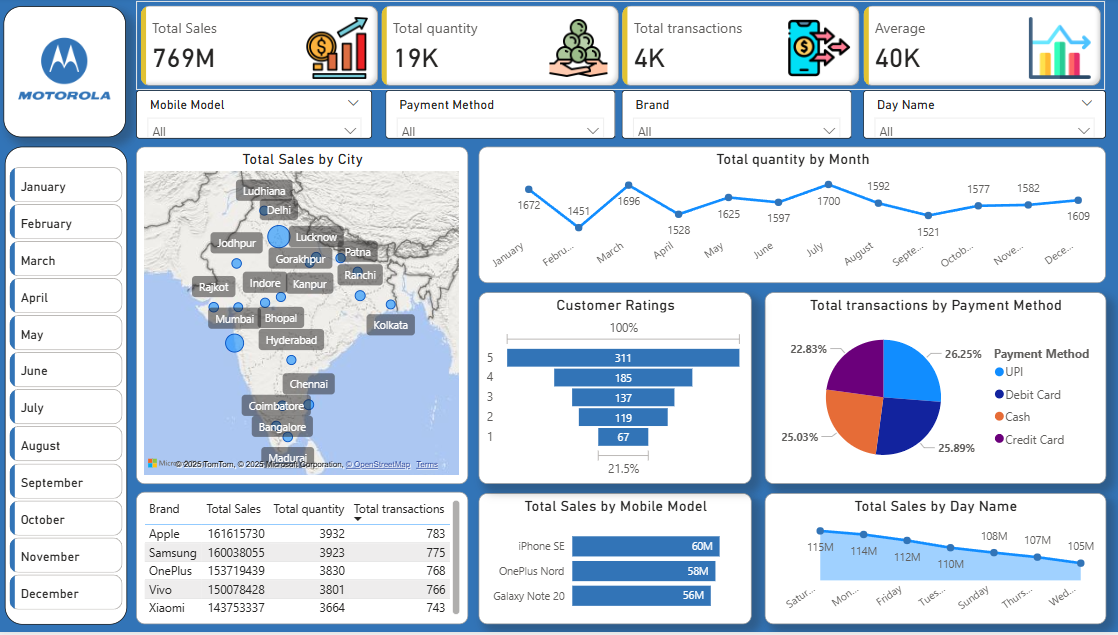

The dashboard page shown, as its layout file describes it:
{"tool":"powerbi","page":{"name":"Page 1","canvas":[1280,720],"ordinal":0},"visuals":[{"type":"shape","box":[11.9,10.4,138.3,148.7],"z":0},{"type":"image","box":[0,10.4,162.1,150.2],"z":1000},{"type":"shape","box":[13.4,169.6,138.3,541.4],"z":2000},{"type":"advancedSlicerVisual","fields":{"Values":["Mobile-sales-data.Date.Variation.Date Hierarchy.Month"]},"box":[13.4,187.4,138.3,523.6],"z":3000},{"type":"cardVisual","fields":{"Data":["Mobile-sales-data.Total Sales","Mobile-sales-data.Total quantity","Mobile-sales-data.Total transactions","Mobile-sales-data.Average"]},"box":[162.1,4.5,1099.2,101.1],"z":4000},{"type":"map","fields":{"Category":["Mobile-sales-data.City"],"Size":["Mobile-sales-data.Total Sales"]},"box":[162.1,169.6,376.3,382.3],"z":5000},{"type":"lineChart","fields":{"Category":["Mobile-sales-data.Date.Variation.Date Hierarchy.Month","Mobile-sales-data.Date.Variation.Date Hierarchy.Day"],"Y":["Mobile-sales-data.Total quantity"]},"box":[550.3,169.6,711,154.7],"z":6000},{"type":"clusteredBarChart","fields":{"Category":["Mobile-sales-data.Mobile Model"],"Y":["Mobile-sales-data.Total Sales"]},"box":[550.3,562.2,309.4,148.7],"z":7000},{"type":"pieChart","fields":{"Category":["Mobile-sales-data.Payment Method"],"Y":["Mobile-sales-data.Total transactions"]},"box":[874.6,334.7,386.7,217.2],"z":8000},{"type":"funnel","title":"Customer Ratings ","fields":{"Category":["Mobile-sales-data.Customer Ratings"],"Y":["CountNonNull(Mobile-sales-data.Customer Ratings)"]},"box":[550.3,334.7,309.4,217.2],"z":9000},{"type":"areaChart","fields":{"Category":["Mobile-sales-data.Day Name"],"Y":["Mobile-sales-data.Total Sales"]},"box":[874.6,562.2,386.7,148.7],"z":10000},{"type":"tableEx","fields":{"Values":["Mobile-sales-data.Brand","Mobile-sales-data.Total Sales","Mobile-sales-data.Total quantity","Mobile-sales-data.Total transactions"]},"box":[162.1,560.7,376.3,150.2],"z":11000},{"type":"slicer","fields":{"Values":["Mobile-sales-data.Mobile Model"]},"box":[162.1,105.6,267.7,55],"z":12000},{"type":"slicer","fields":{"Values":["Mobile-sales-data.Payment Method"]},"box":[444.7,105.6,260.3,55],"z":13000},{"type":"slicer","fields":{"Values":["Mobile-sales-data.Brand"]},"box":[712.5,105.6,260.3,55],"z":14000},{"type":"slicer","fields":{"Values":["Mobile-sales-data.Day Name"]},"box":[986.1,105.6,275.2,55],"z":15000}]}

Visuals, with their boxes in screenshot pixels (x1, y1, x2, y2), scaled from the page's 1280x720 canvas onto the 1118x635 screenshot:
shape: bbox=[10, 9, 131, 140]
image: bbox=[0, 9, 142, 142]
shape: bbox=[12, 150, 133, 627]
advancedSlicerVisual - Mobile-sales-data.Date.Variation.Date Hierarchy.Month: bbox=[12, 165, 133, 627]
cardVisual - Mobile-sales-data.Total Sales x Mobile-sales-data.Total quantity: bbox=[142, 4, 1102, 93]
map - Mobile-sales-data.City x Mobile-sales-data.Total Sales: bbox=[142, 150, 470, 487]
lineChart - Mobile-sales-data.Date.Variation.Date Hierarchy.Month x Mobile-sales-data.Date.Variation.Date Hierarchy.Day: bbox=[481, 150, 1102, 286]
clusteredBarChart - Mobile-sales-data.Mobile Model x Mobile-sales-data.Total Sales: bbox=[481, 496, 751, 627]
pieChart - Mobile-sales-data.Payment Method x Mobile-sales-data.Total transactions: bbox=[764, 295, 1102, 487]
"Customer Ratings " funnel: bbox=[481, 295, 751, 487]
areaChart - Mobile-sales-data.Day Name x Mobile-sales-data.Total Sales: bbox=[764, 496, 1102, 627]
tableEx - Mobile-sales-data.Brand x Mobile-sales-data.Total Sales: bbox=[142, 495, 470, 627]
slicer - Mobile-sales-data.Mobile Model: bbox=[142, 93, 375, 142]
slicer - Mobile-sales-data.Payment Method: bbox=[388, 93, 616, 142]
slicer - Mobile-sales-data.Brand: bbox=[622, 93, 850, 142]
slicer - Mobile-sales-data.Day Name: bbox=[861, 93, 1102, 142]
